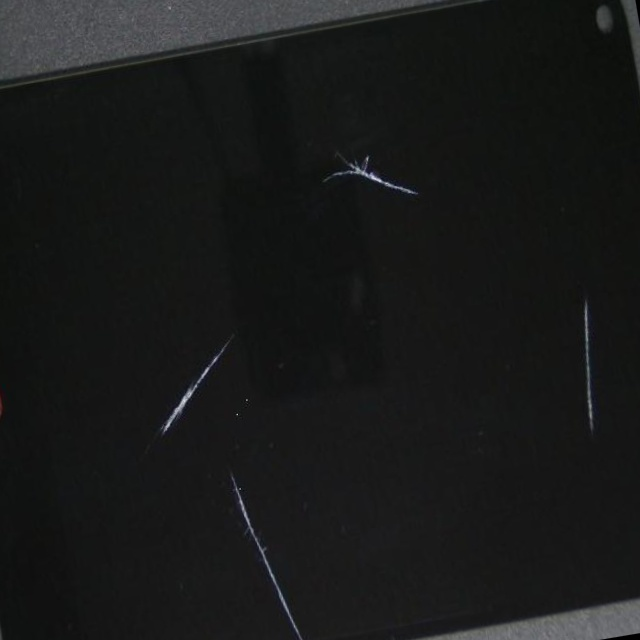scratch: (228, 167, 640, 640), (66, 176, 399, 640), (89, 4, 536, 327), (2, 178, 289, 640)
